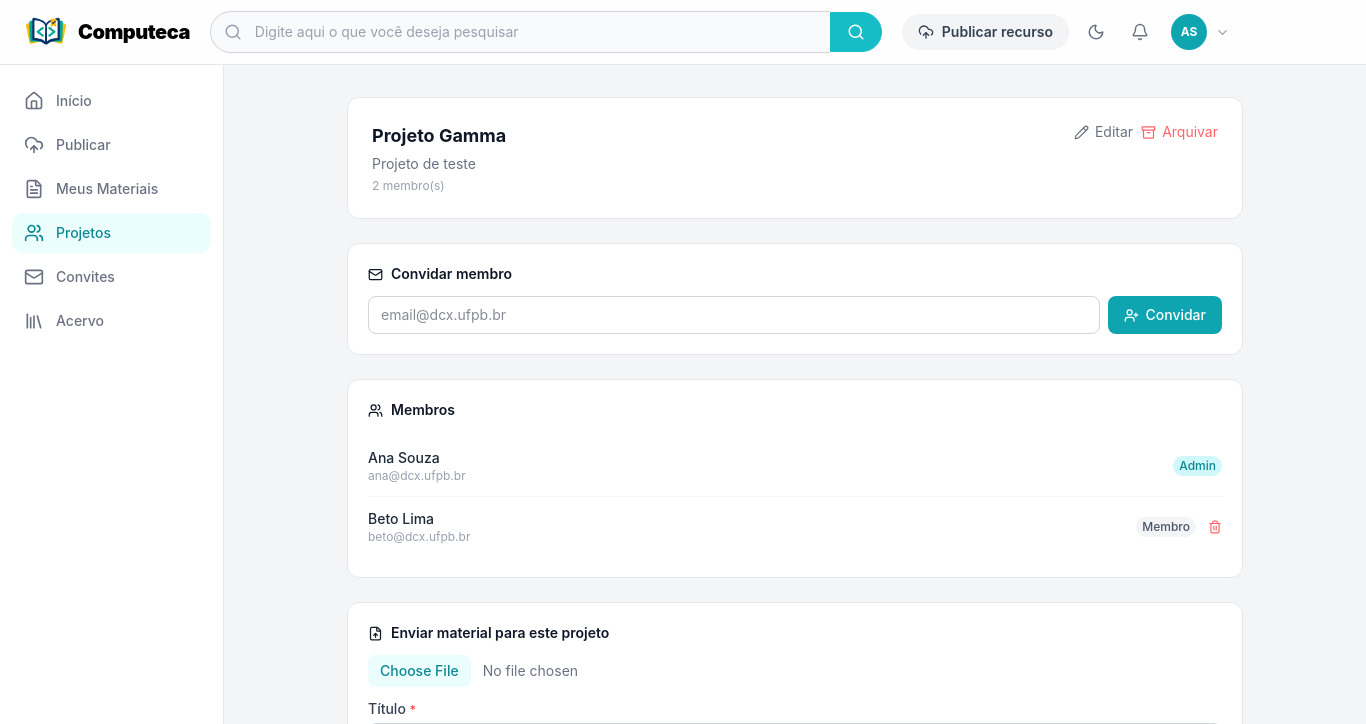
OrganizationDetailPage › convida um membro
This screenshot has width=1366, height=724.
Expected: the heading "Projeto Gamma" is shown, [372,122,506,150]
Step 1. Type "novo@dcx.ufpb.br" into the field with placeholder "email@dcx.ufpb.br" → (734, 315), box [368,296,1100,334]
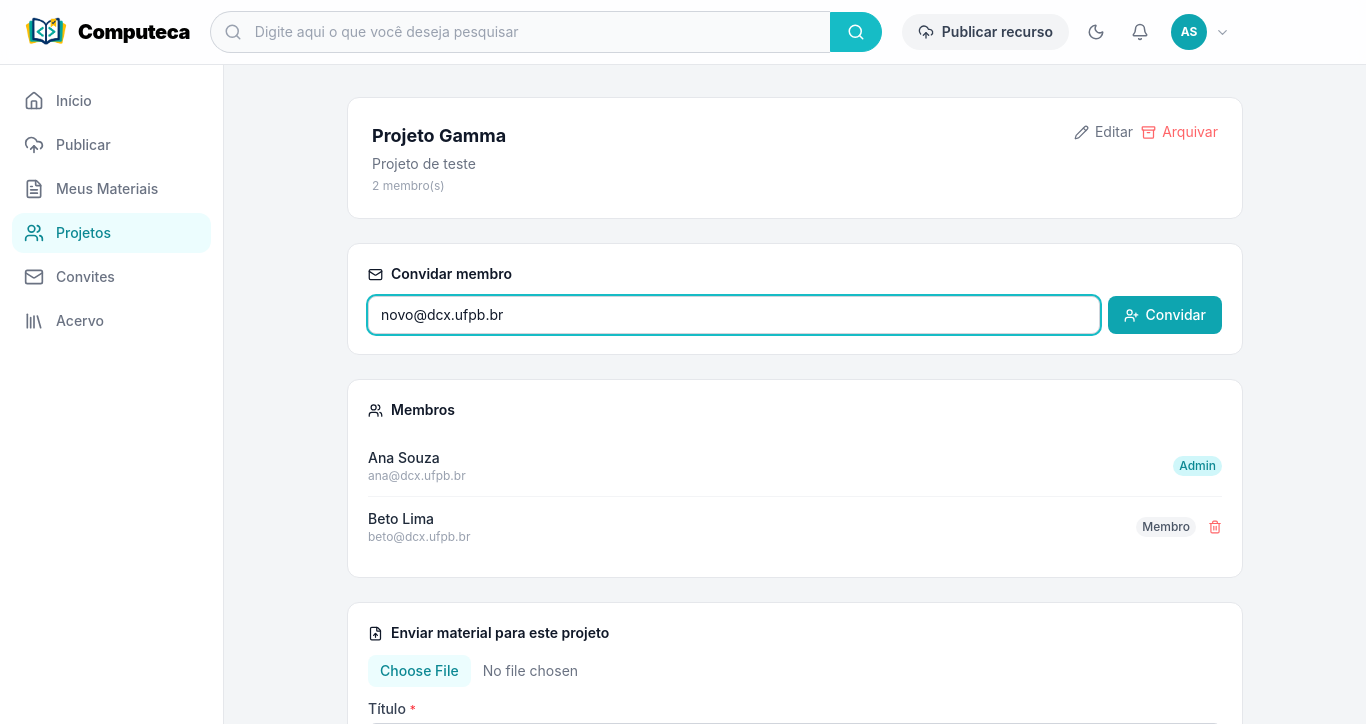
Step 2. Click the button "Convidar" → (1165, 315), box [1108,296,1222,334]
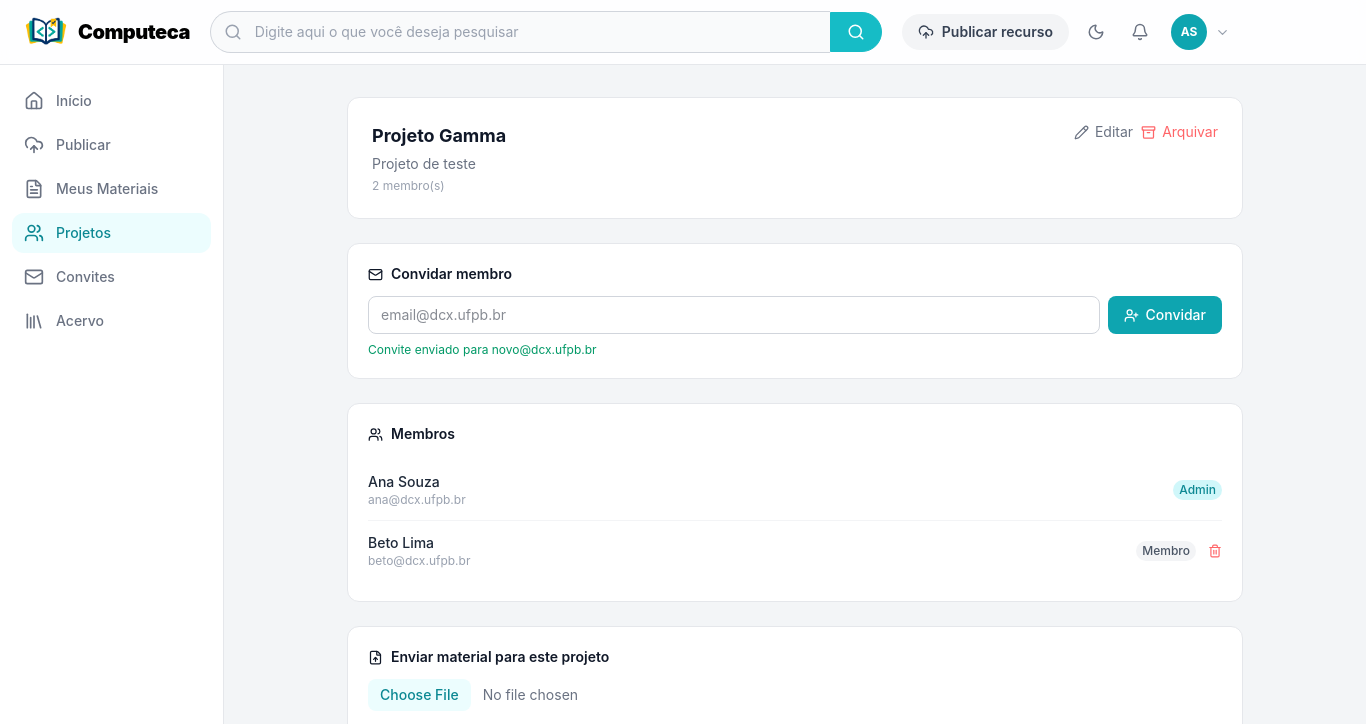
Result: the text "Convite enviado para novo@dcx.ufpb.br" is shown at [368,342,597,357]
